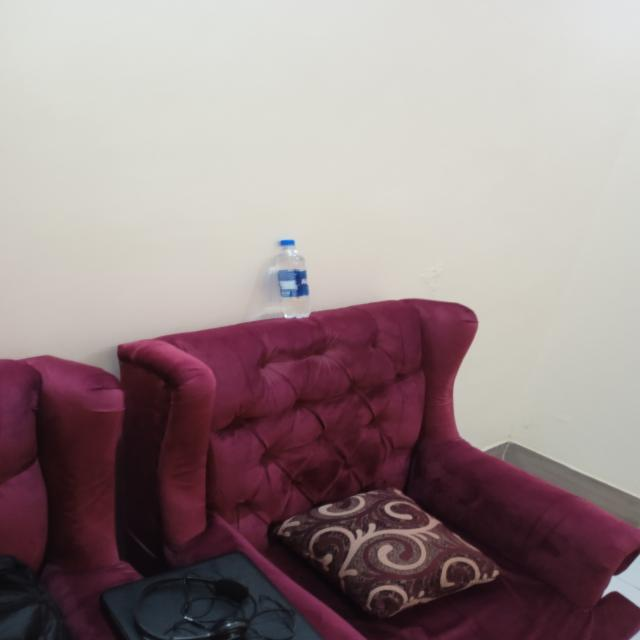Plastic: (271, 237, 316, 320)
